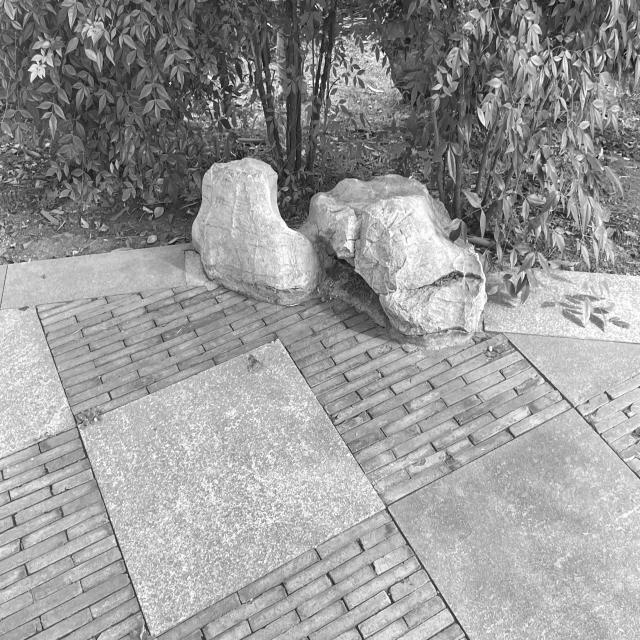Stone: (309, 175, 486, 336), (192, 158, 318, 304)
